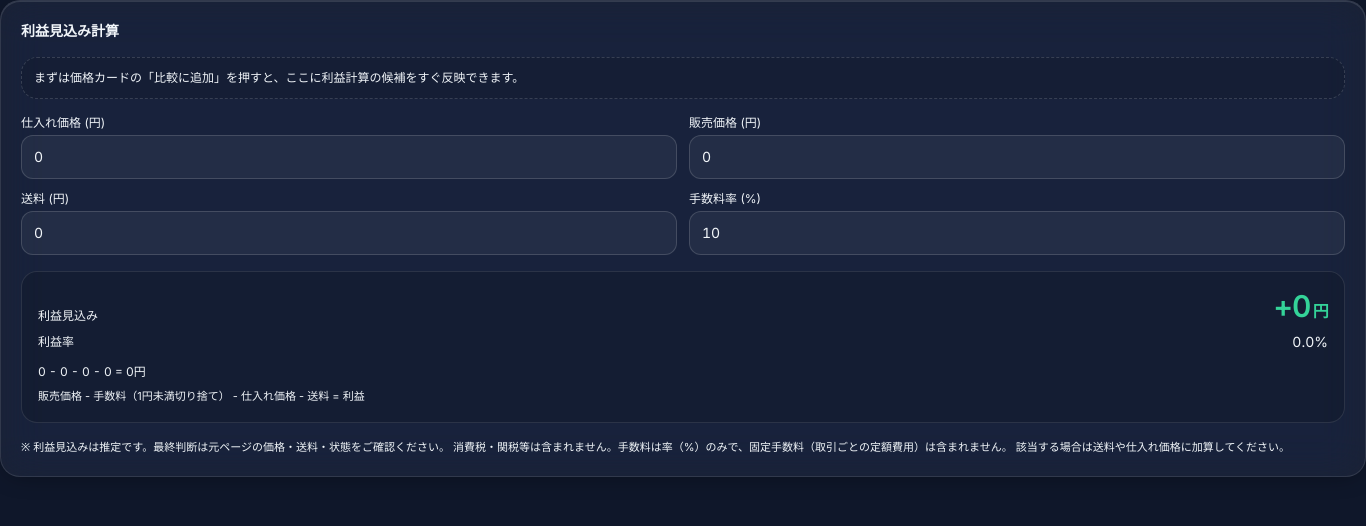
Scenario: ProfitPanel › 販売価格が未入力のうちは「利益薄い」などの判定バッジを出さない
In the field labelled "販売価格 (円)": (1017, 157) [689, 135, 1345, 179], type "1000"
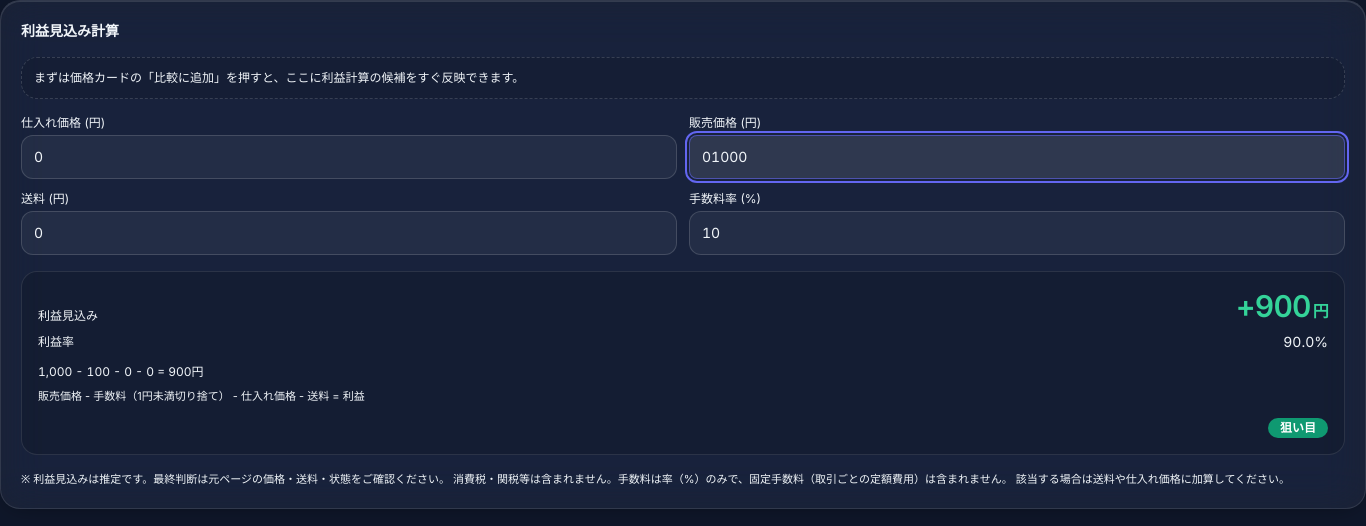
Now the text "狙い目" is shown, box [1268, 418, 1328, 438]
